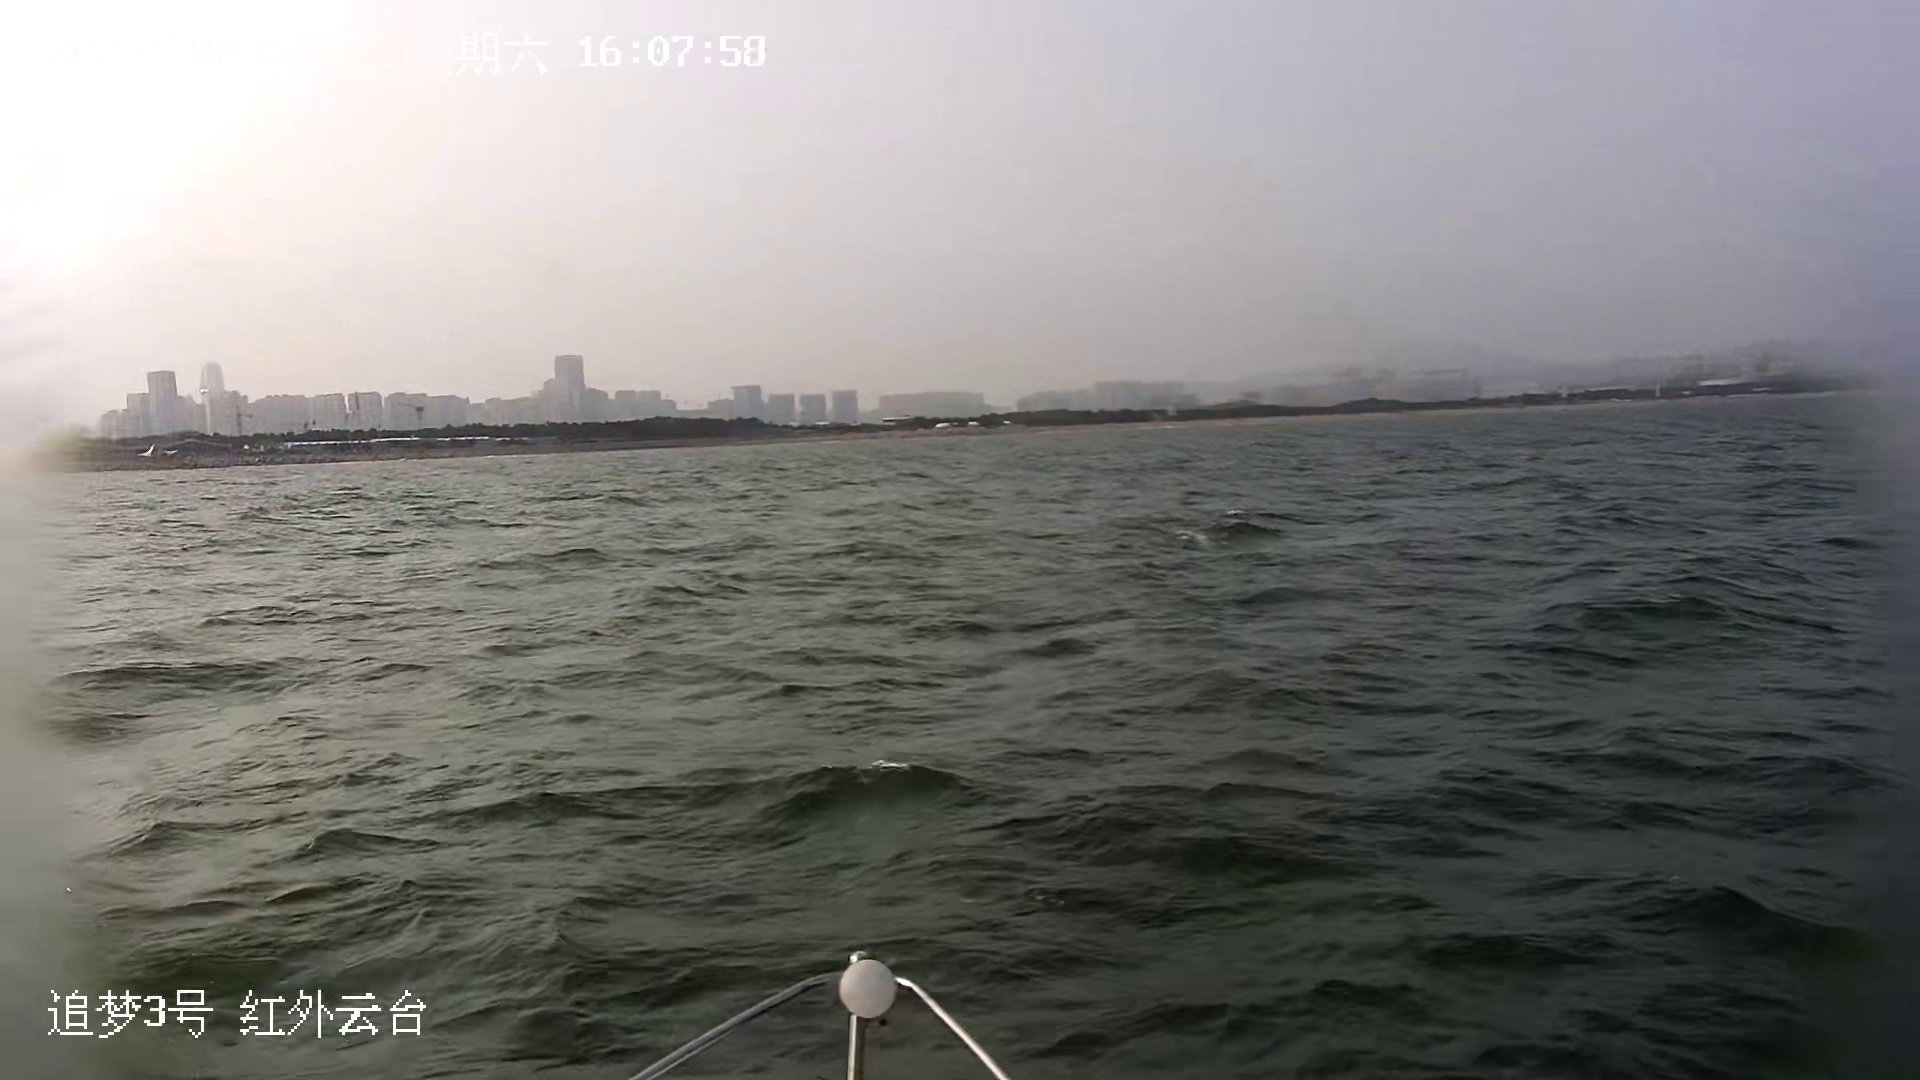coast: (41, 349, 1920, 475)
